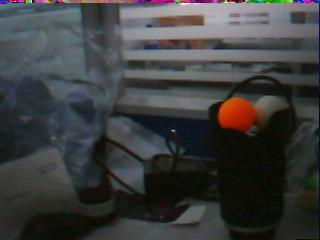oball: (217, 98, 254, 129)
